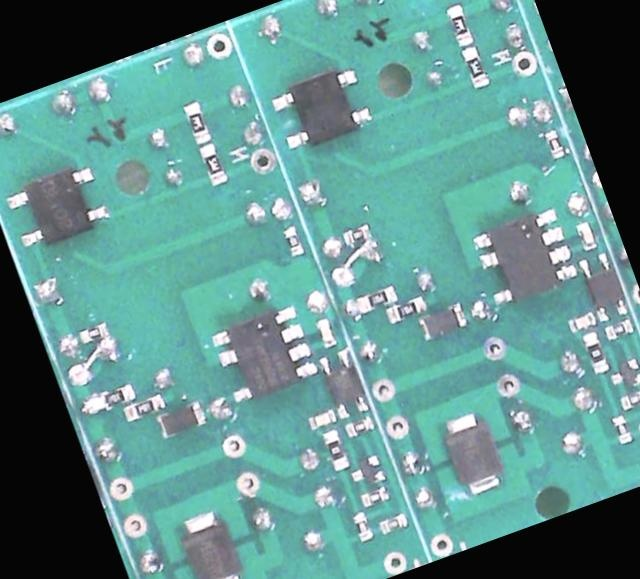chip-capacitor: (572, 217, 600, 253), (304, 405, 340, 433), (312, 314, 340, 349), (564, 308, 598, 335)
chip-resistor: (195, 138, 232, 190), (457, 41, 492, 91), (577, 327, 611, 376), (179, 98, 213, 146), (121, 390, 168, 424), (318, 426, 352, 472), (442, 0, 474, 46), (353, 282, 399, 314), (383, 292, 429, 324), (96, 380, 137, 411), (278, 221, 306, 259), (600, 315, 636, 343), (539, 125, 566, 162), (348, 508, 376, 543), (356, 482, 392, 509), (609, 410, 635, 446), (374, 510, 410, 536), (341, 412, 375, 439), (76, 319, 111, 345), (339, 221, 373, 247), (616, 387, 640, 413)
diode: (434, 402, 510, 499), (173, 503, 248, 579), (152, 395, 210, 440), (413, 298, 471, 343)
ic: (205, 297, 322, 407), (467, 202, 581, 309), (0, 156, 114, 255), (267, 60, 377, 155), (315, 345, 371, 422), (574, 248, 630, 324)
transistor: (345, 451, 389, 492), (606, 355, 640, 394)
